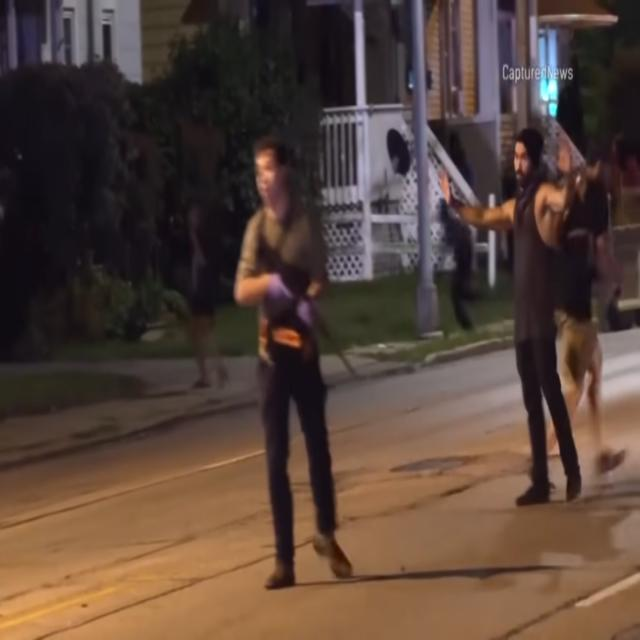FRifle: (255, 217, 358, 386)
